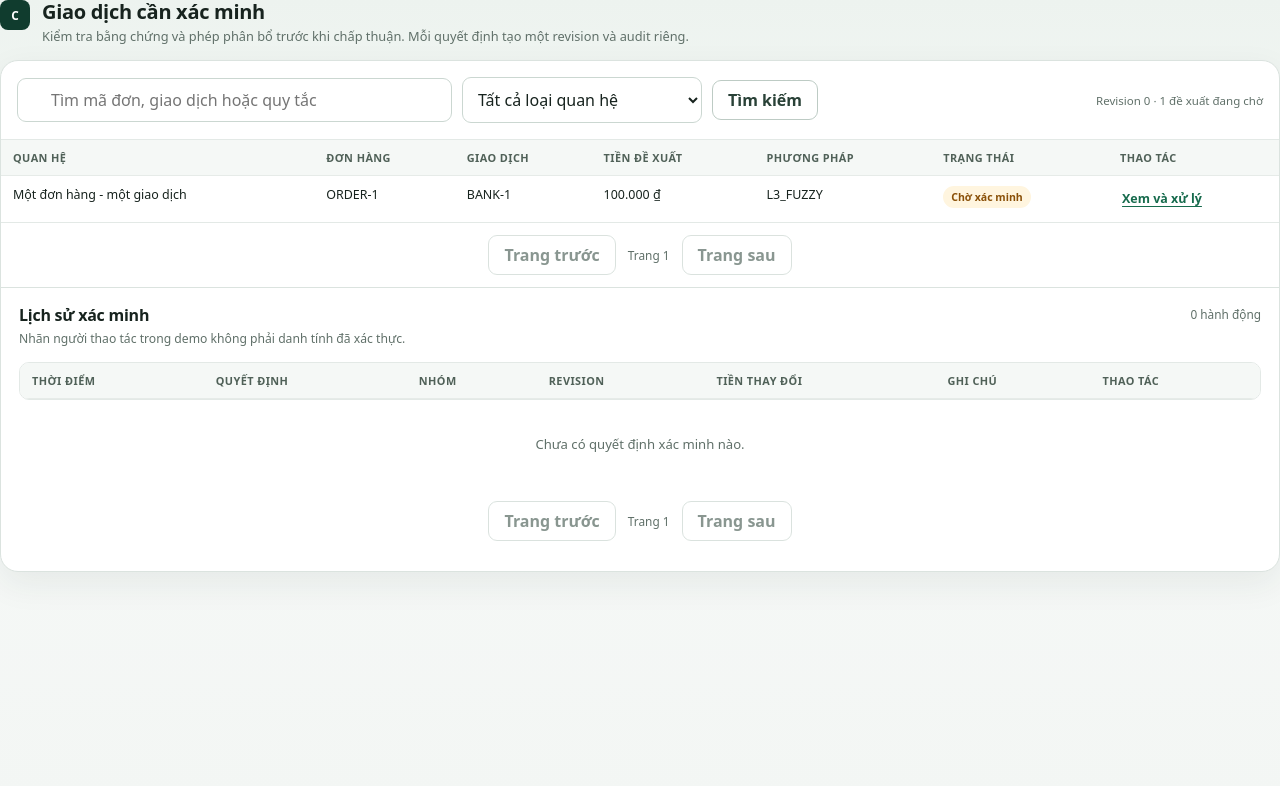
Test case: chấp thuận proposal, hiển thị allocation preview và refresh revision
The width and height of the screenshot is (1280, 786).
Click the button "Xem và xử lý" at (1162, 199), box [1120, 186, 1204, 212]
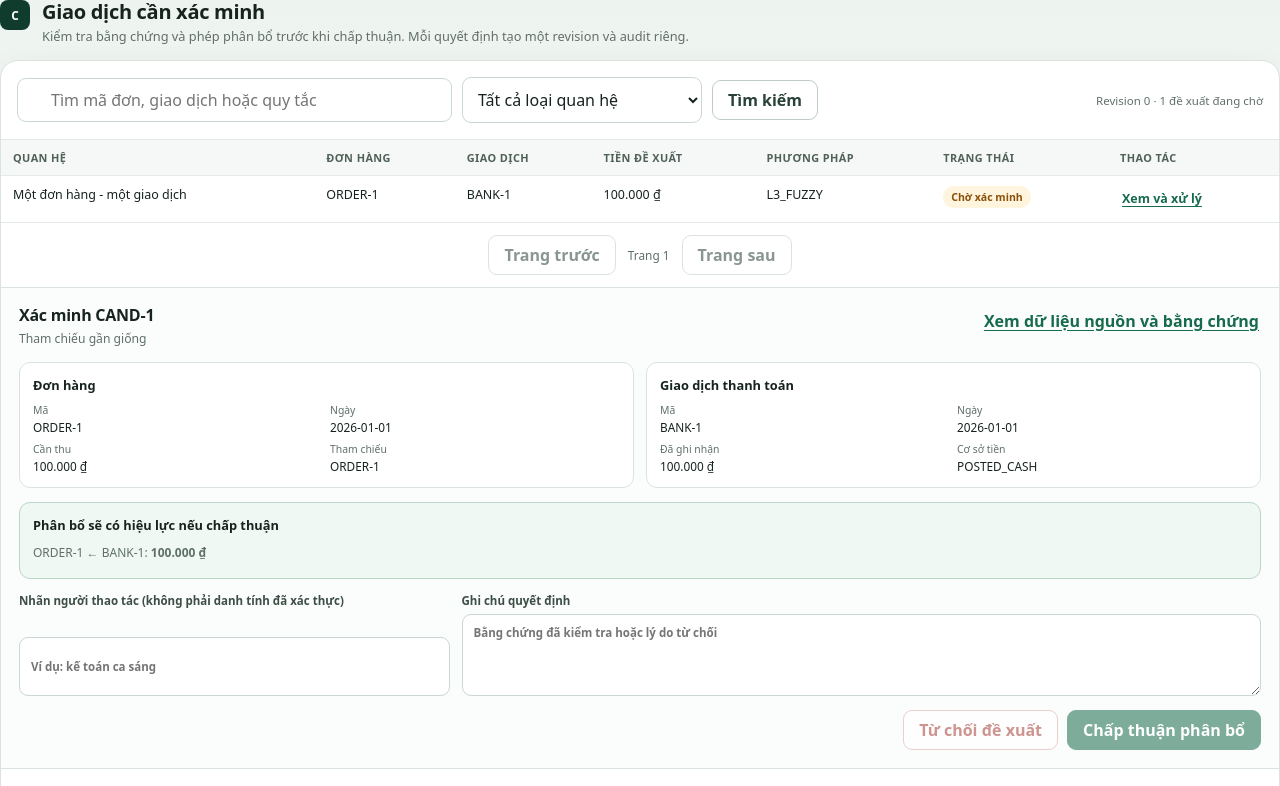
Expected: the text "ORDER-1 ← BANK-1: 100.000 ₫" is shown, [33, 544, 206, 561]
Type "Đã đối chiếu chứng từ" into the text box with placeholder "Bằng chứng đã kiểm tra hoặc lý do từ chối" at (861, 655), box [462, 614, 1261, 696]
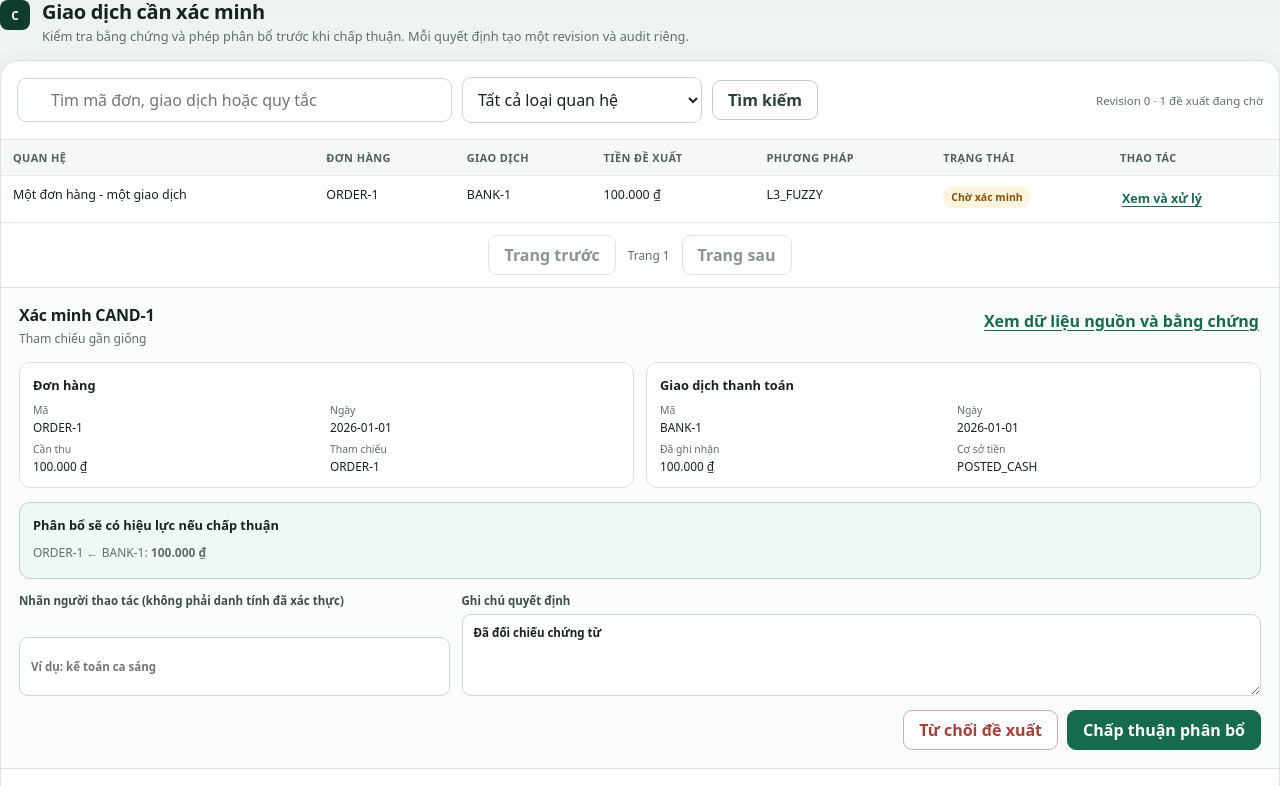
Click the button "Chấp thuận phân bổ" at (1164, 730), box [1067, 710, 1261, 750]
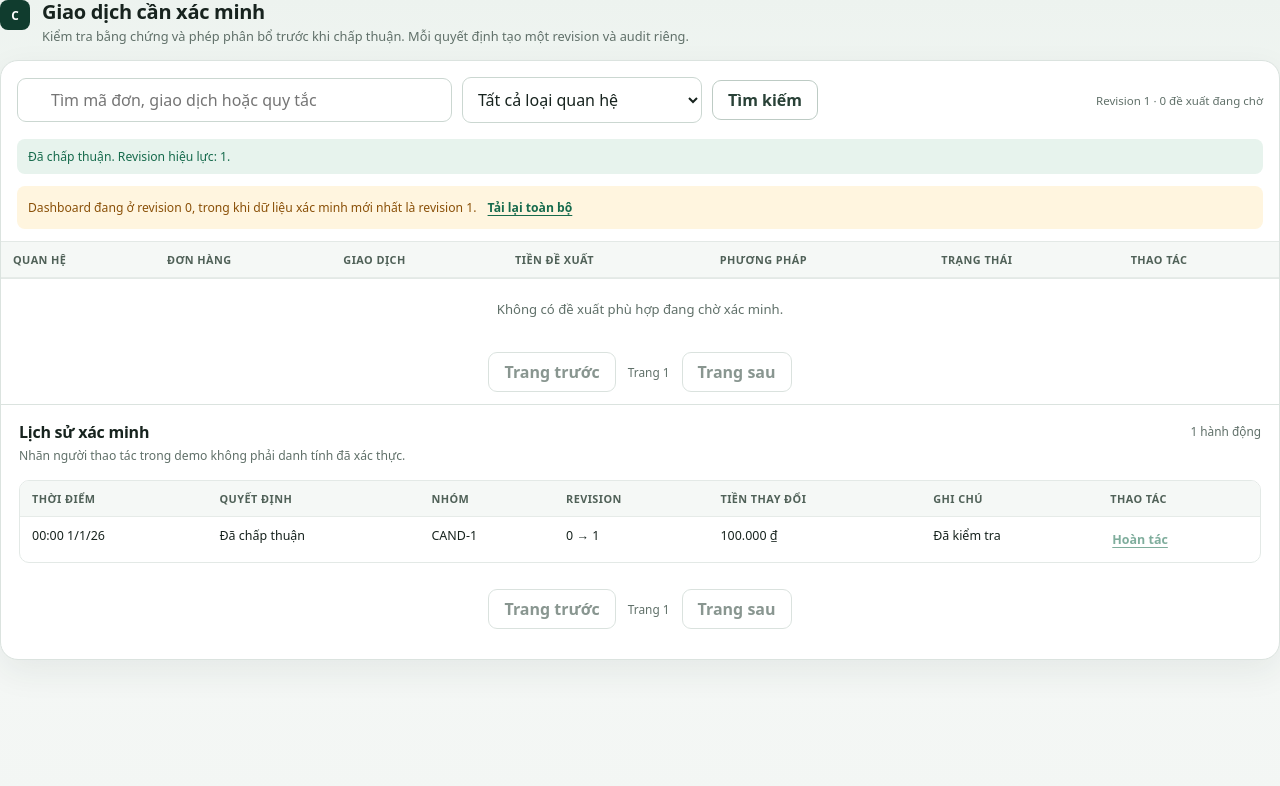
Expected: the message "Đã chấp thuận. Revision hiệu lực: 1." is shown, [17, 139, 1263, 174]
